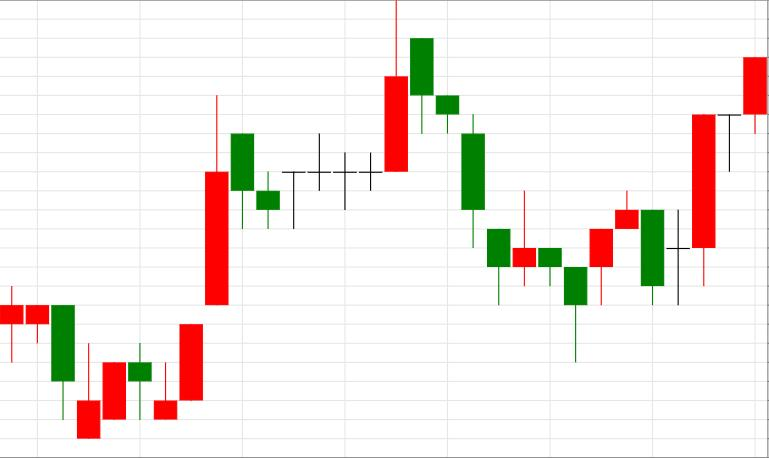hammer_rise: (411, 38, 587, 363)
